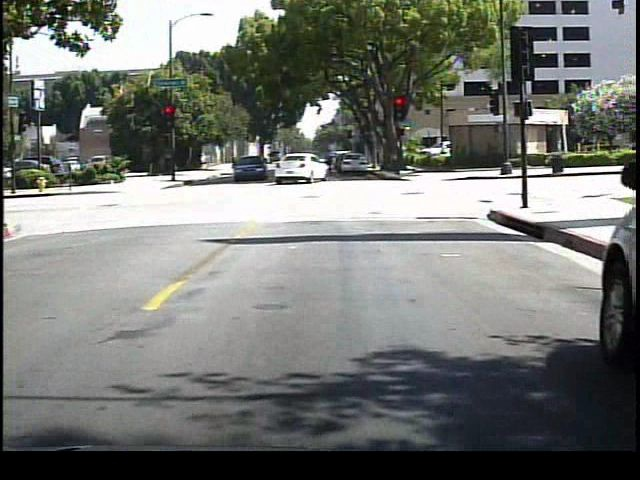person: (319, 145, 336, 181)
